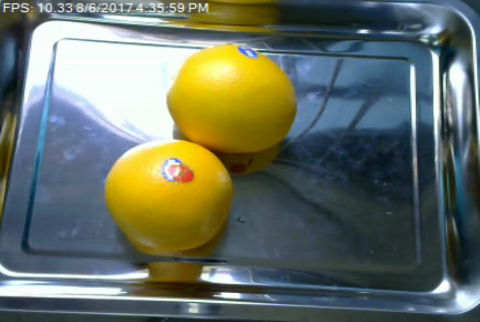Orange: (166, 44, 296, 152), (105, 139, 234, 247)
